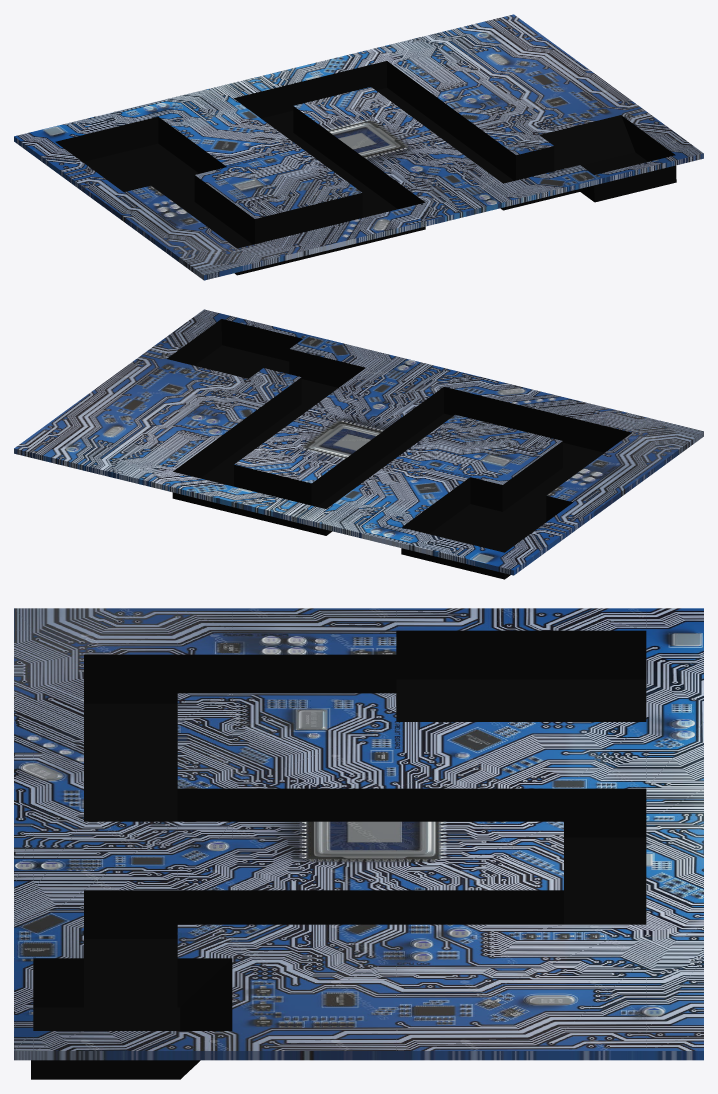
The model's file is WaterFloorBeta3.fbx.
The picture shows the model from 3 angles, top to bottom: view 1: azimuth 30°, elevation 25°; view 2: azimuth 150°, elevation 25°; view 3: azimuth 270°, elevation 25°; orthographic projection. The views are drawn at different scales.
Parts seen in each view (by area): view 1: polySurface8; view 2: polySurface8; view 3: polySurface8.
Boxes of the visible parts, x1,y1,x2,y2 form: polySurface8: [14, 14, 703, 280]; polySurface8: [14, 309, 703, 579]; polySurface8: [14, 608, 703, 1079].
Size of the model in its own units: 19.16 by 0.9847 by 12.62.
